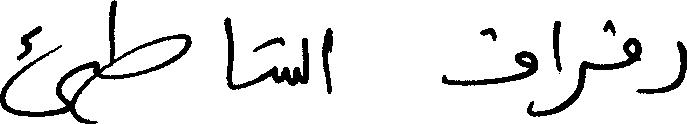X: (0, 21, 94, 123), (442, 23, 536, 121), (99, 0, 190, 84), (643, 36, 686, 98), (563, 56, 586, 114), (273, 32, 295, 90), (623, 33, 641, 98), (552, 16, 561, 118), (224, 12, 234, 94), (322, 23, 331, 98), (302, 33, 307, 88)
